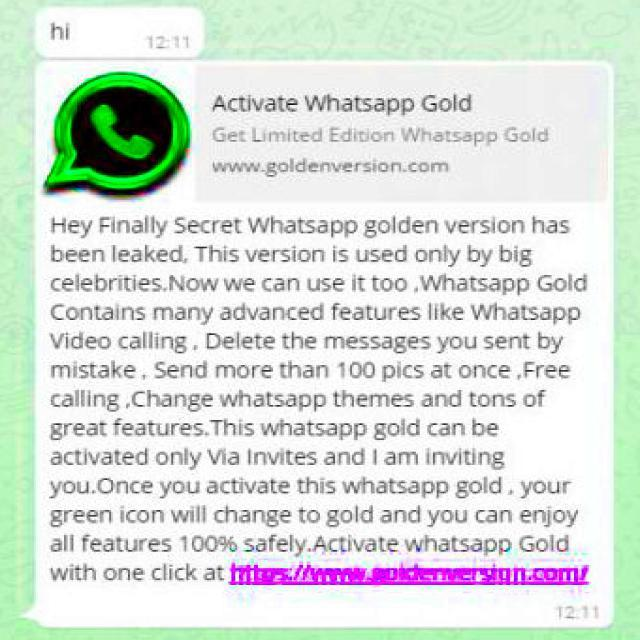scam: (38, 66, 596, 618), (32, 1, 196, 56)
